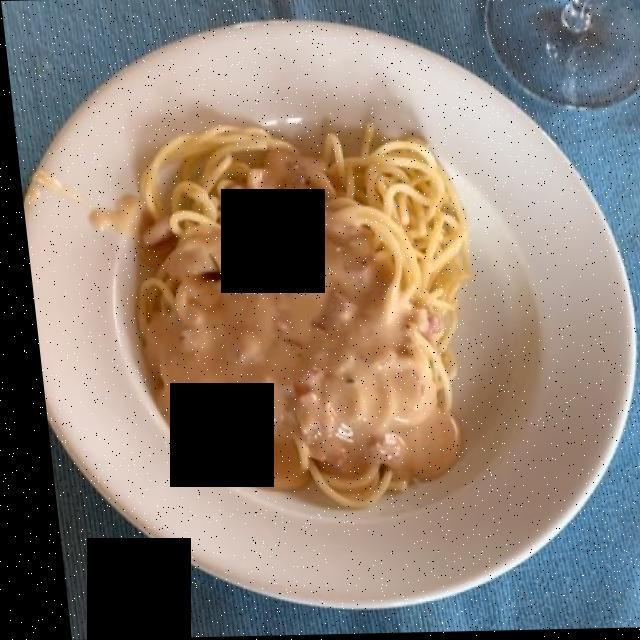pasta: (127, 122, 456, 501)
sauce: (136, 159, 433, 481)
